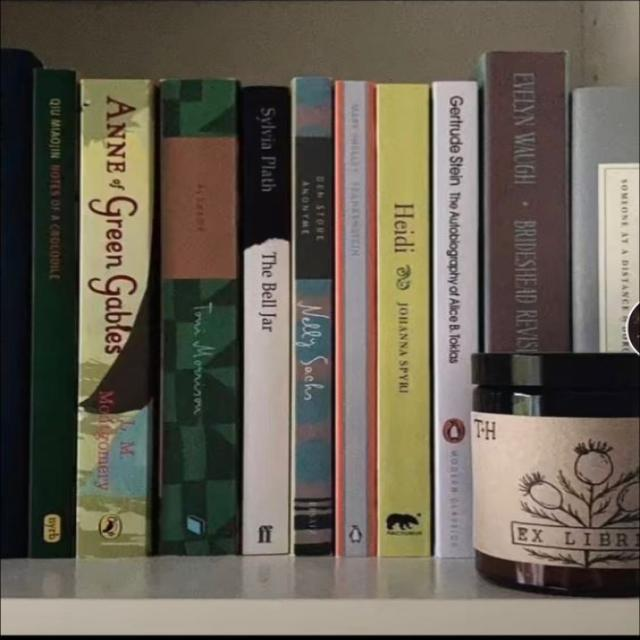book: (161, 77, 237, 557), (79, 78, 150, 556), (488, 51, 572, 351), (378, 84, 429, 556), (243, 86, 286, 554), (434, 81, 476, 558), (294, 78, 334, 557), (34, 69, 73, 558), (335, 79, 374, 557)
